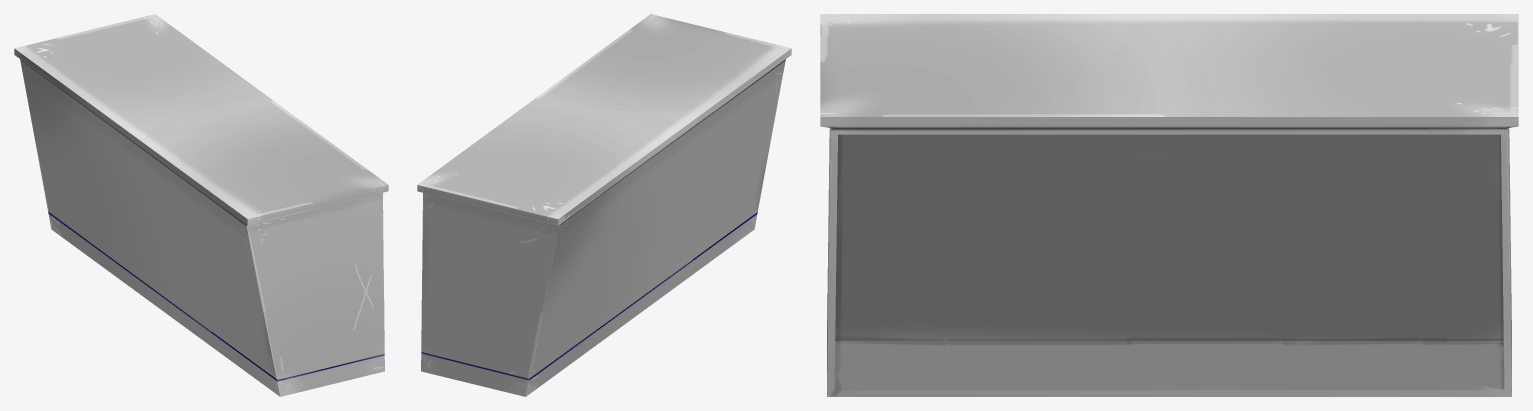
Rendered from registertable.fbx.
The picture shows the model from 3 angles, left to right: view 1: azimuth 30°, elevation 25°; view 2: azimuth 150°, elevation 25°; view 3: azimuth 270°, elevation 25°; orthographic projection. The views are drawn at different scales.
Parts seen in each view (by area): view 1: Cube; view 2: Cube; view 3: Cube.
Boxes of the visible parts, x1,y1,x2,y2 form: Cube: (14,14,388,396); Cube: (417,14,791,396); Cube: (820,14,1518,396).
Bounding box in the file's own units: 103 × 131 × 296.
